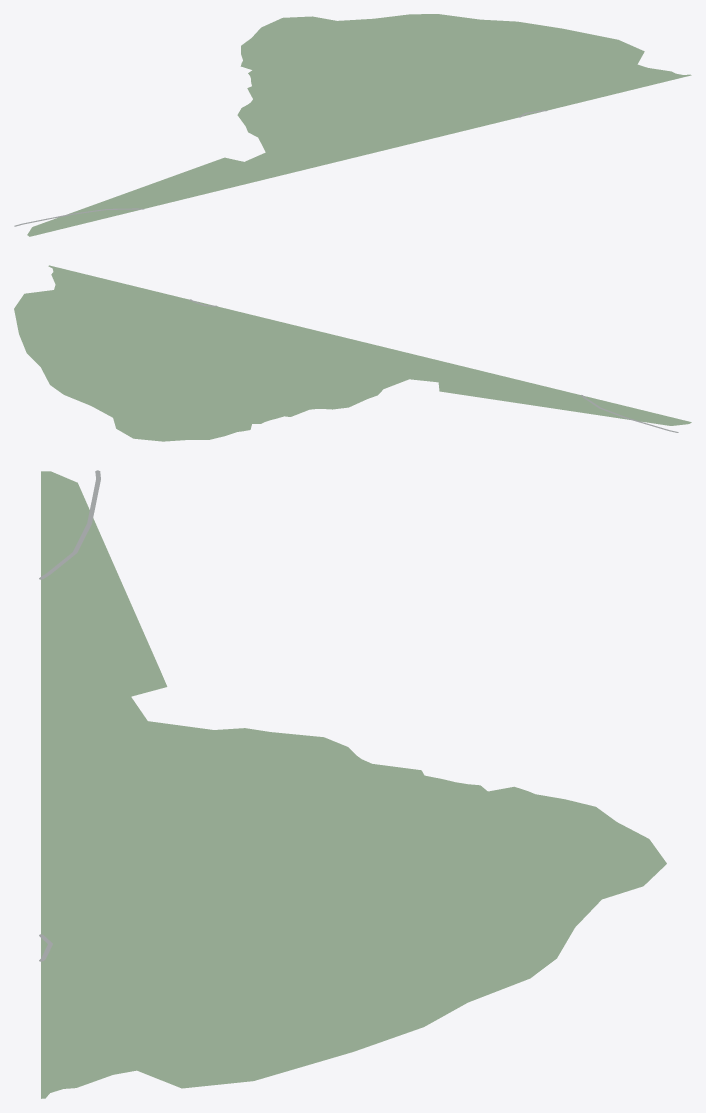
The model's file is -23_-13-known-coarse.glb.
The picture shows the model from 3 angles, top to bottom: view 1: azimuth 30°, elevation 25°; view 2: azimuth 150°, elevation 25°; view 3: azimuth 270°, elevation 25°; orthographic projection. The views are drawn at different scales.
Size of the model in its own units: 903 by 0.1 by 381.
